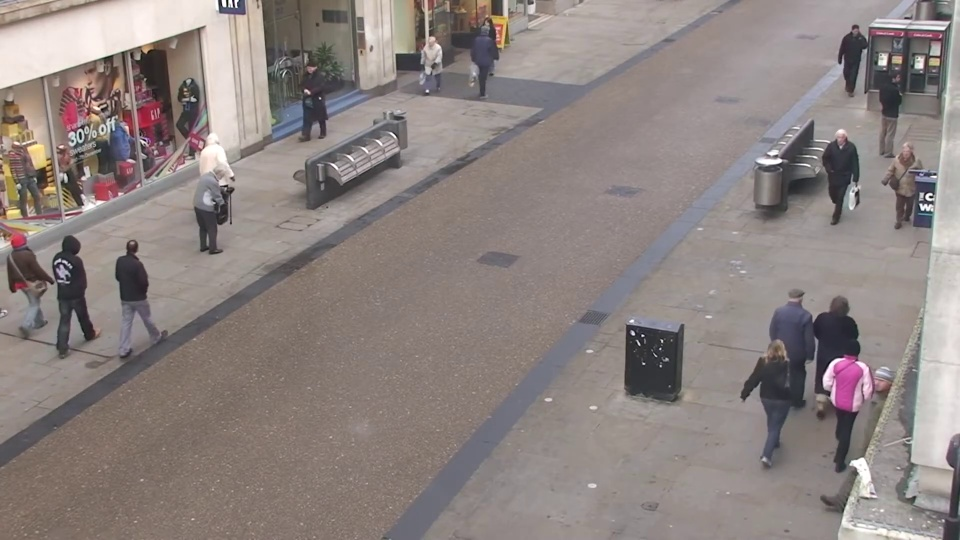pedestrian: (832, 359, 894, 523), (821, 323, 879, 475), (747, 324, 801, 475), (811, 284, 865, 425), (5, 220, 65, 341), (772, 276, 823, 414), (58, 225, 113, 347), (122, 227, 174, 350), (877, 139, 923, 243), (203, 161, 244, 267), (817, 126, 856, 225), (206, 126, 244, 222), (872, 67, 911, 154), (834, 22, 866, 97), (293, 60, 322, 139), (414, 34, 440, 106), (478, 23, 503, 93), (472, 15, 497, 82)
